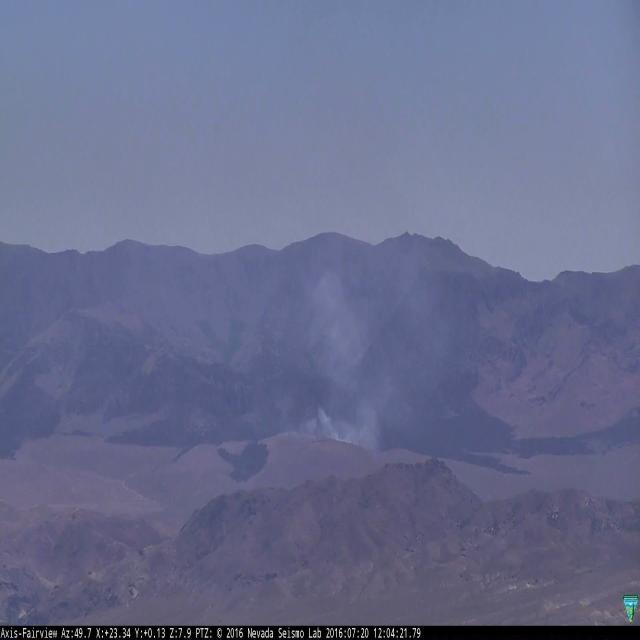smoke: (310, 392, 380, 457)
